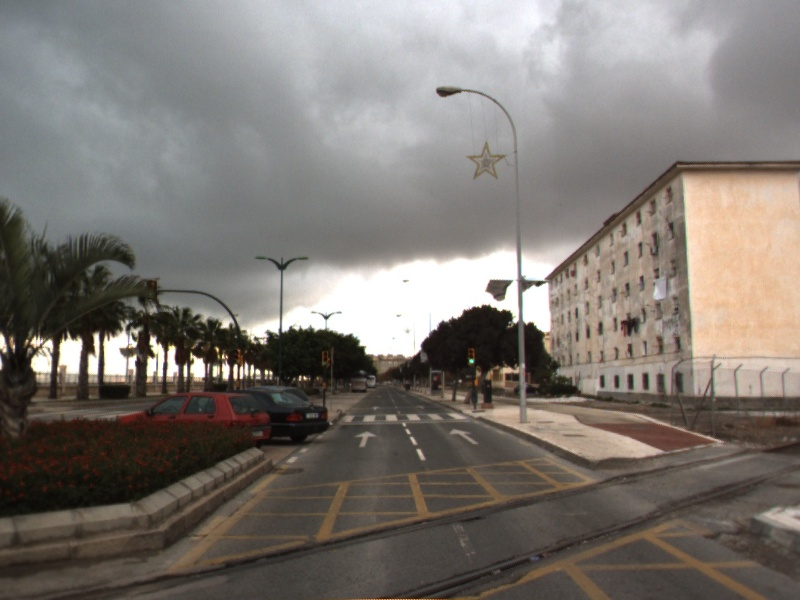STRAIGHT: (447, 426, 481, 446), (352, 429, 379, 450)
